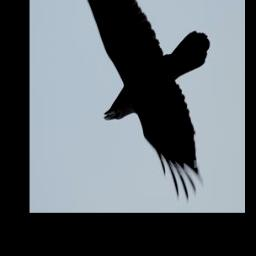Crow: (77, 0, 211, 205)
